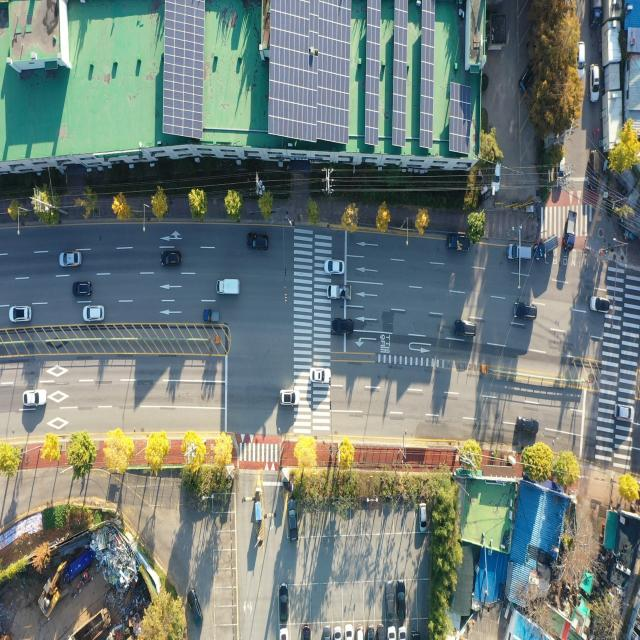car: (533, 235, 560, 266), (518, 57, 538, 96), (187, 586, 203, 632), (394, 578, 408, 624), (286, 497, 299, 542), (507, 243, 536, 261), (516, 414, 538, 436), (384, 580, 396, 620), (511, 301, 537, 319), (590, 292, 610, 314), (24, 388, 47, 406), (454, 320, 477, 338), (491, 161, 502, 198), (81, 306, 106, 322), (575, 43, 585, 83), (248, 234, 269, 252), (11, 306, 33, 323), (418, 499, 429, 532), (60, 251, 82, 267), (332, 319, 355, 334), (591, 64, 600, 102), (280, 389, 300, 406), (326, 260, 346, 276), (310, 366, 330, 382), (279, 583, 287, 622), (616, 405, 635, 421), (163, 251, 182, 266), (75, 281, 92, 296), (321, 622, 332, 640), (387, 623, 398, 640), (411, 629, 422, 640), (356, 625, 364, 640), (377, 623, 384, 640), (366, 626, 374, 640), (303, 626, 311, 640), (346, 624, 353, 640), (280, 626, 288, 640), (335, 626, 342, 640), (398, 628, 405, 640)
small_truck: (564, 204, 580, 251), (447, 232, 470, 255), (216, 278, 241, 297), (590, 0, 604, 31), (588, 151, 599, 188), (329, 284, 352, 299), (204, 309, 220, 323)
